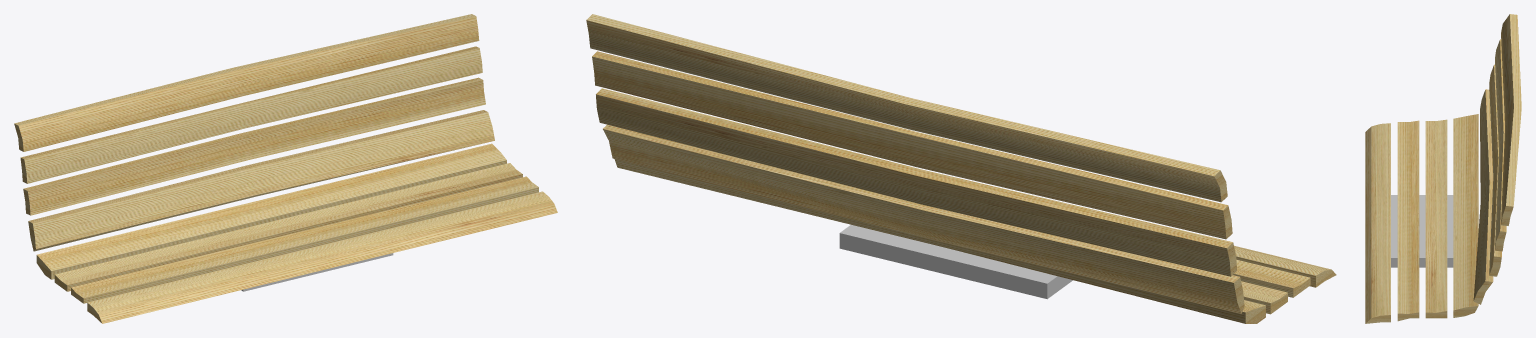
The model's file is Final_Bench 10_22.fbx.
3 views of the same model, side by side, from view 1: azimuth 30°, elevation 25°; view 2: azimuth 150°, elevation 25°; view 3: azimuth 270°, elevation 25° (orthographic). The views are drawn at different scales.
Parts seen in each view (by area): view 1: polySurface122, pCube1; view 2: polySurface122, pCube1; view 3: polySurface122, pCube1.
Part boxes in pixels (x1,y1,x2,y2): polySurface122: [14, 14, 557, 323]; pCube1: [241, 253, 393, 291]; polySurface122: [586, 14, 1336, 323]; pCube1: [839, 224, 1072, 299]; polySurface122: [1365, 14, 1521, 323]; pCube1: [1391, 195, 1453, 267].
Size of the model in its own units: 0.0259 by 0.00804 by 0.00894.
